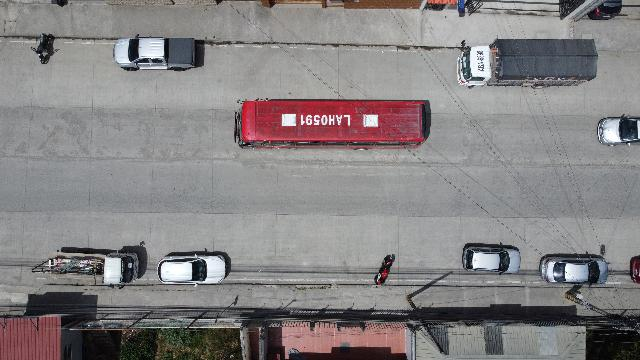Vehiculo: (46, 248, 140, 290), (114, 37, 204, 71), (158, 253, 228, 285), (540, 254, 608, 284), (462, 243, 520, 274), (597, 116, 639, 146)
